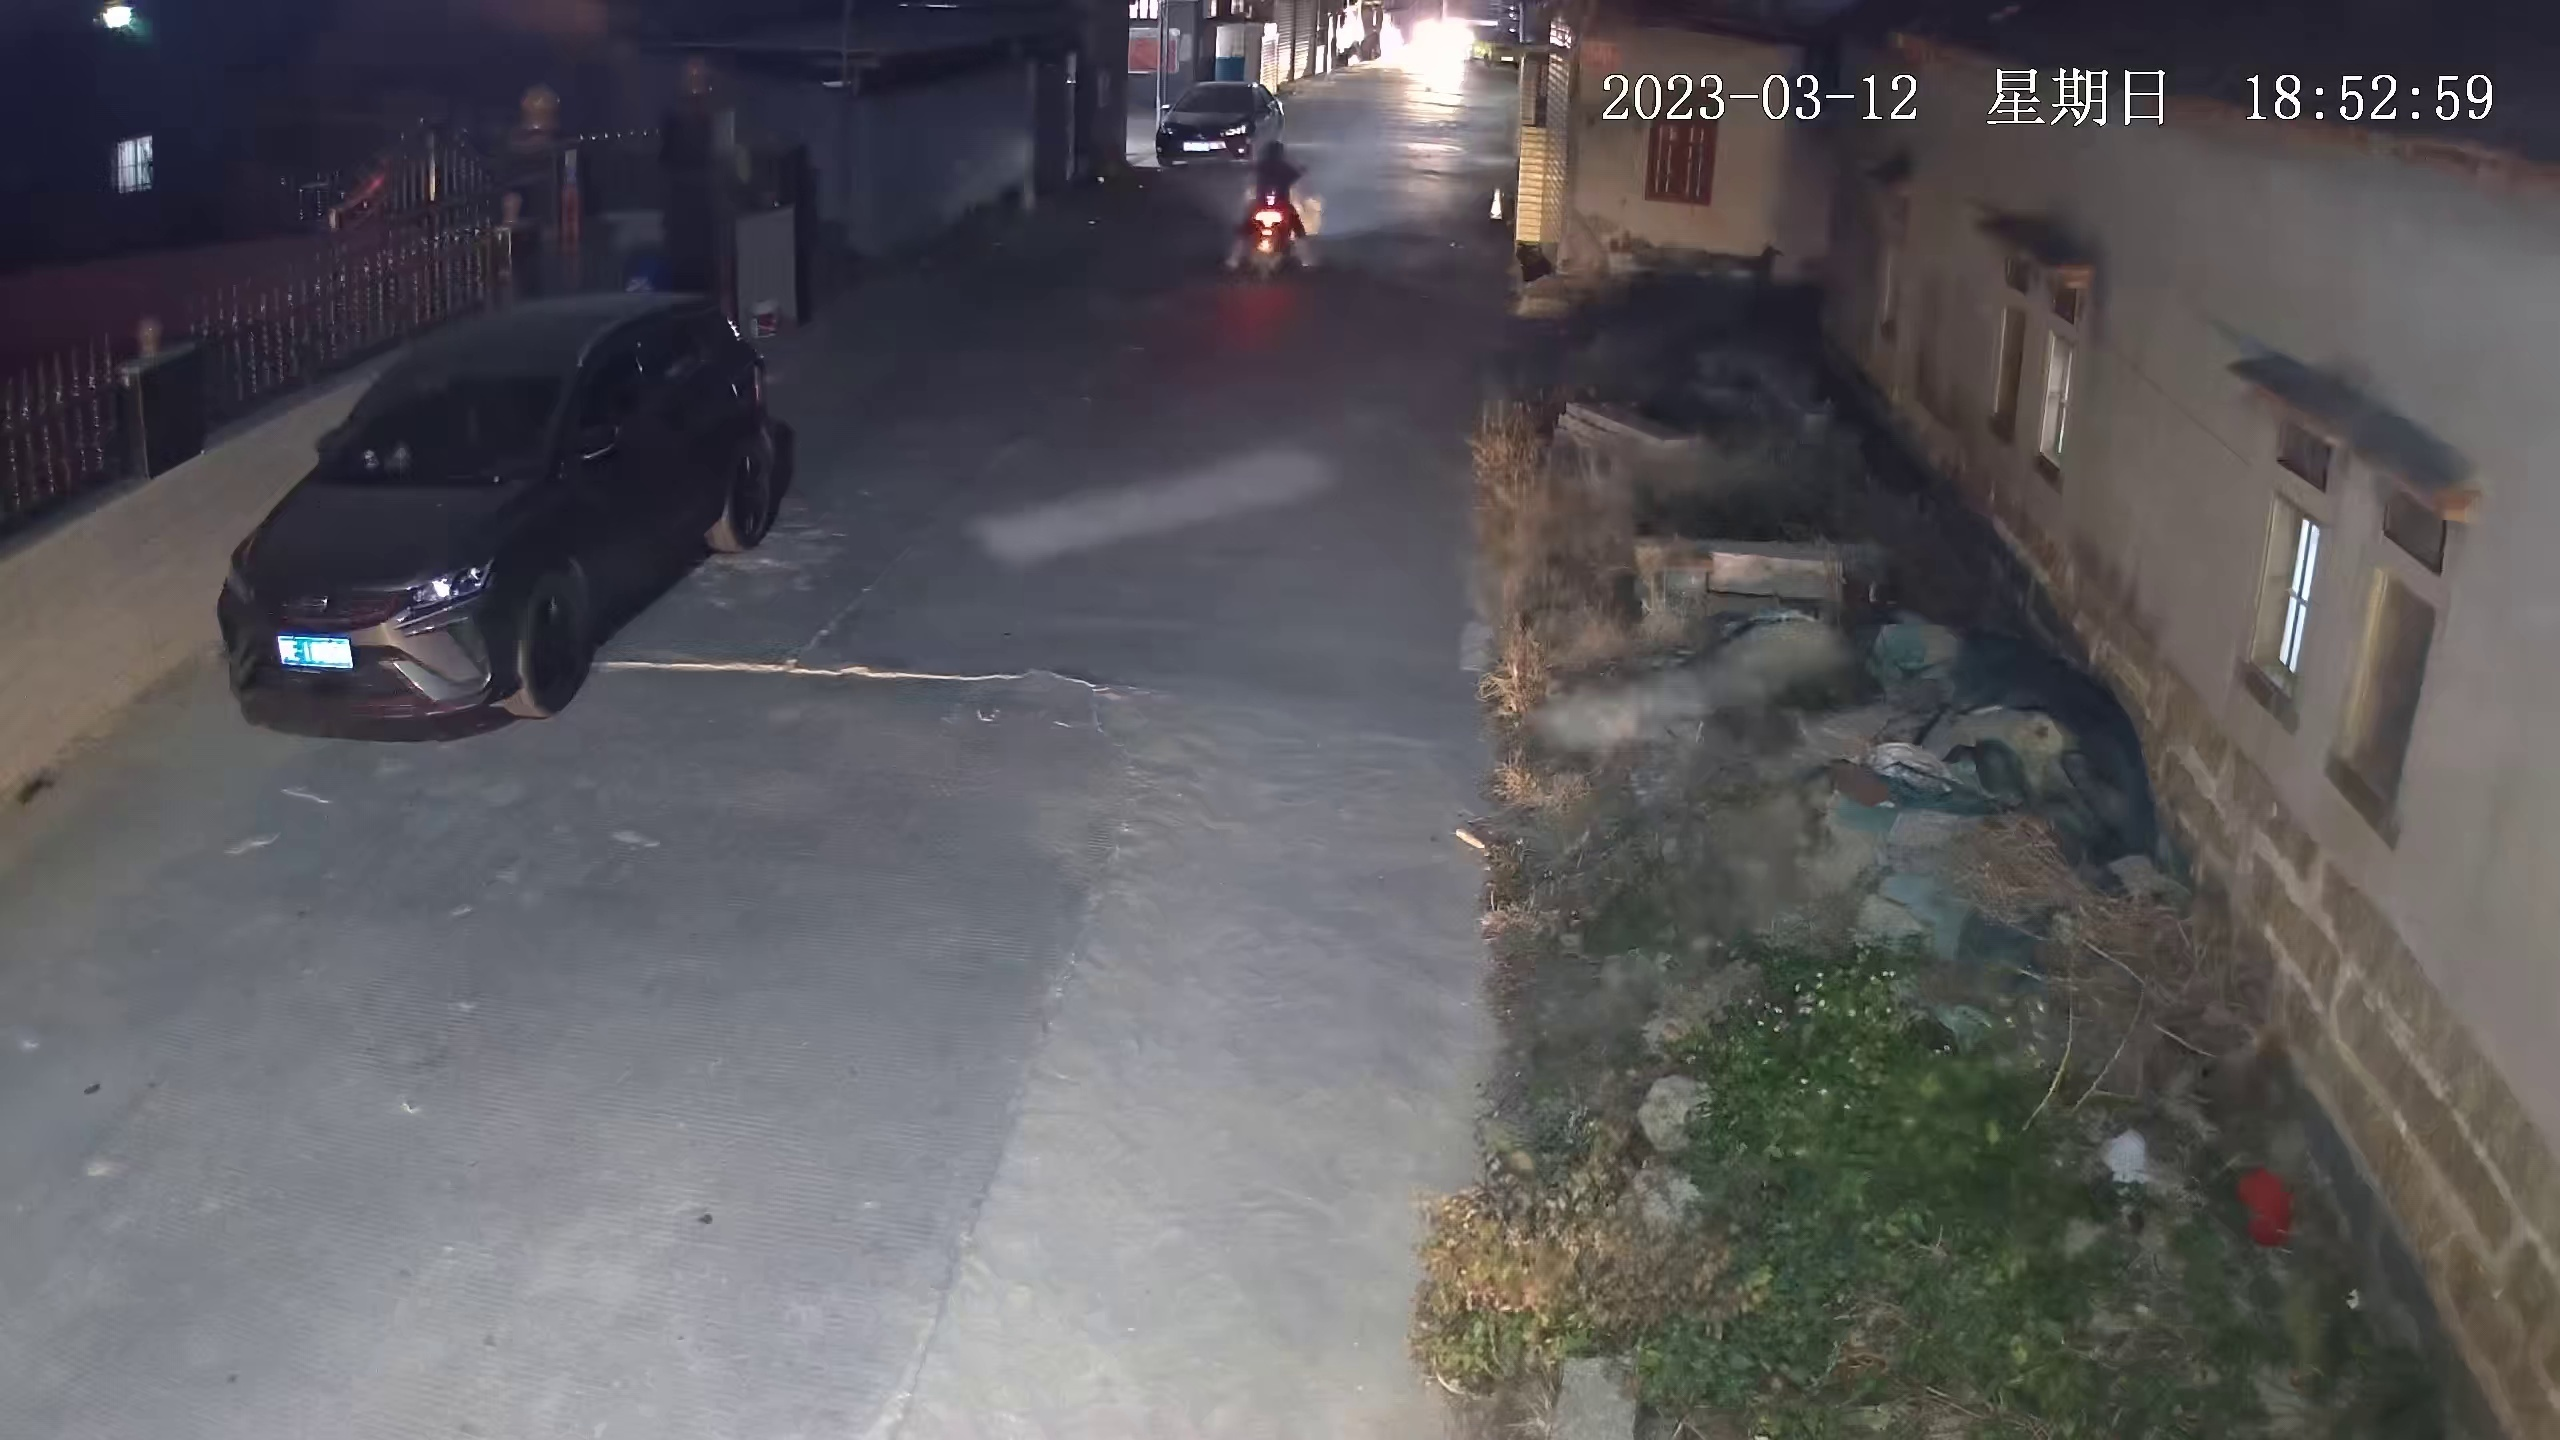motorcycle: (1243, 144, 1305, 288)
sedan: (1159, 77, 1284, 151), (1470, 32, 1519, 69)
suv: (223, 292, 788, 737)
